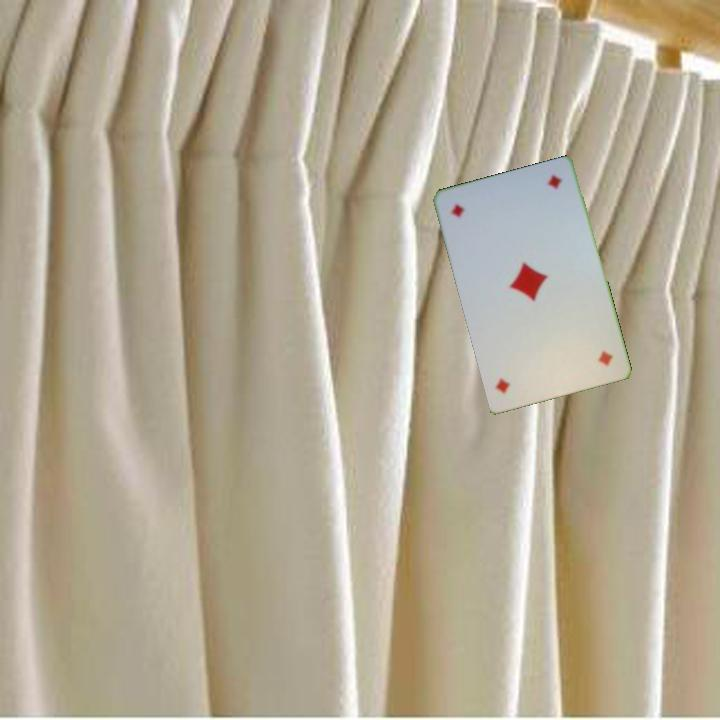d_a.png: (542, 314, 621, 387), (443, 182, 522, 254)
